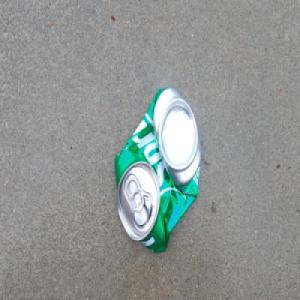SodaCan: (112, 86, 202, 256)
